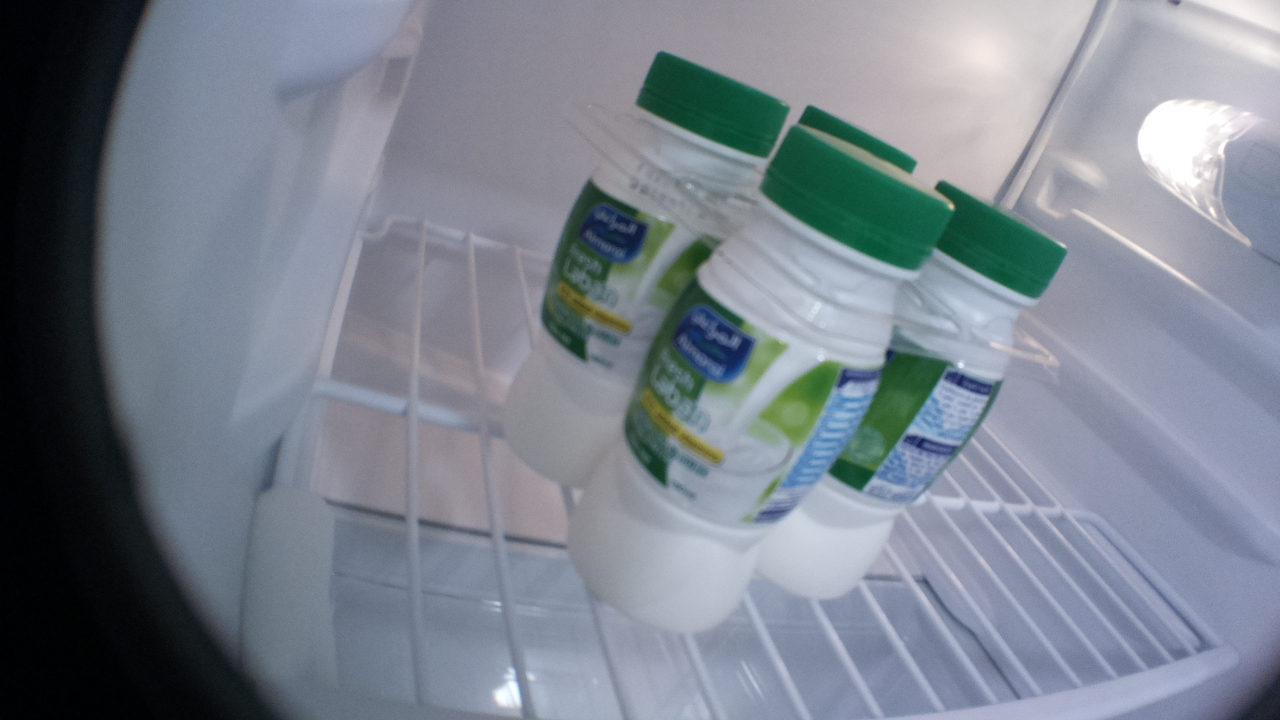laban: (566, 122, 953, 639), (471, 48, 790, 541), (748, 176, 1068, 621), (732, 65, 1070, 383)
